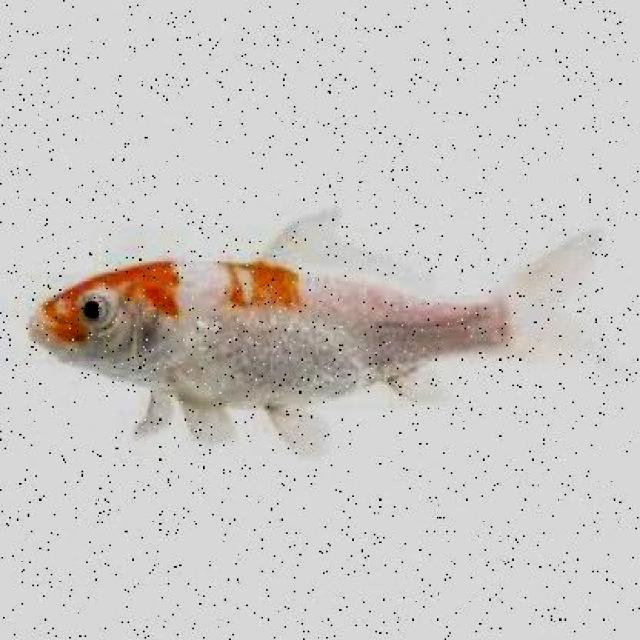ikan-mas: (19, 210, 612, 439)
